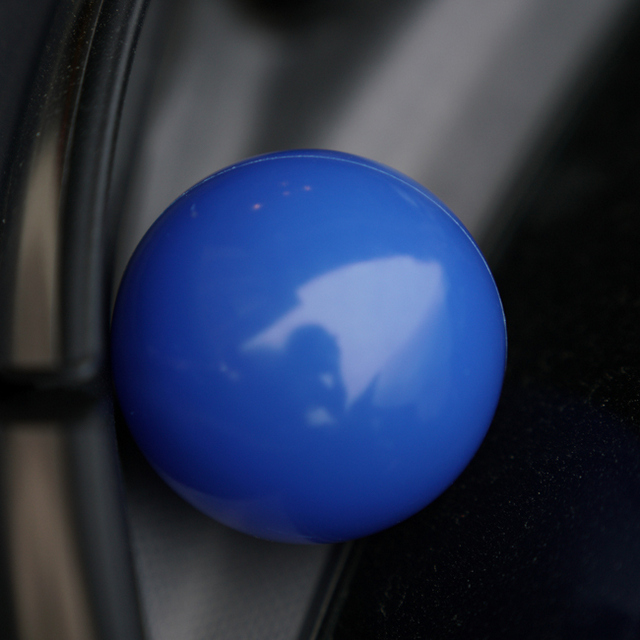Ball: (110, 147, 509, 536)
